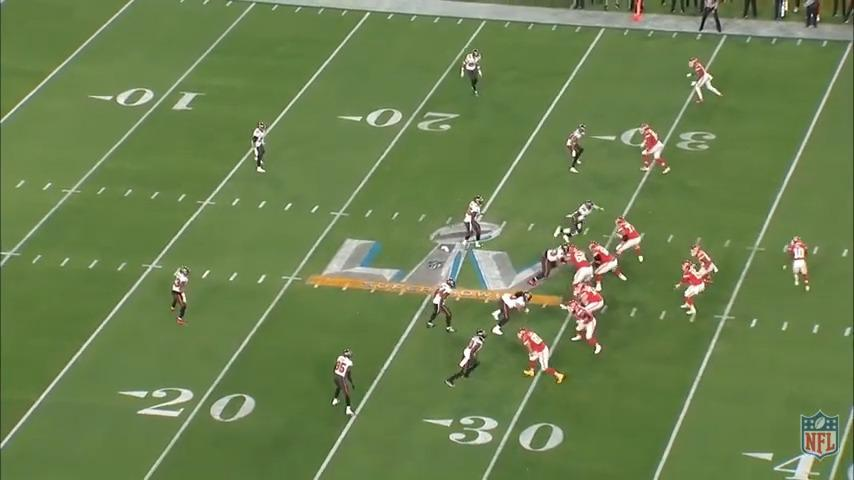player: (522, 327, 568, 386), (446, 328, 488, 389), (638, 122, 675, 180), (567, 299, 604, 357), (554, 199, 602, 243), (686, 56, 726, 108), (525, 246, 578, 285), (590, 241, 630, 292), (333, 348, 361, 420), (487, 291, 530, 336), (425, 278, 457, 335), (789, 232, 817, 295), (613, 215, 645, 266), (170, 264, 195, 329), (674, 257, 700, 318), (460, 46, 487, 100), (693, 241, 722, 289), (575, 284, 607, 327), (462, 194, 486, 250), (564, 122, 588, 175), (568, 245, 596, 290), (249, 120, 269, 176)
ref: (697, 0, 726, 34)
